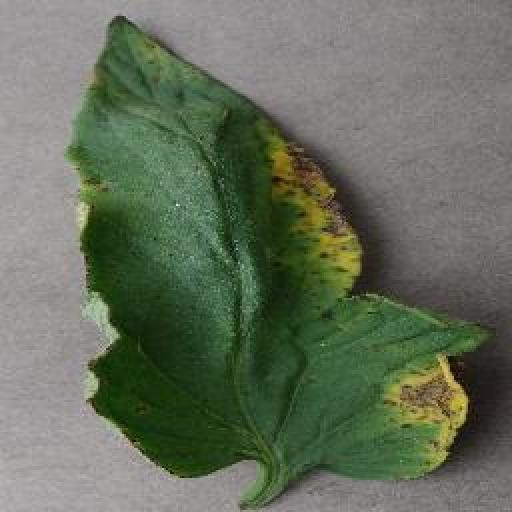Bacterial Spot: (62, 9, 494, 484)
